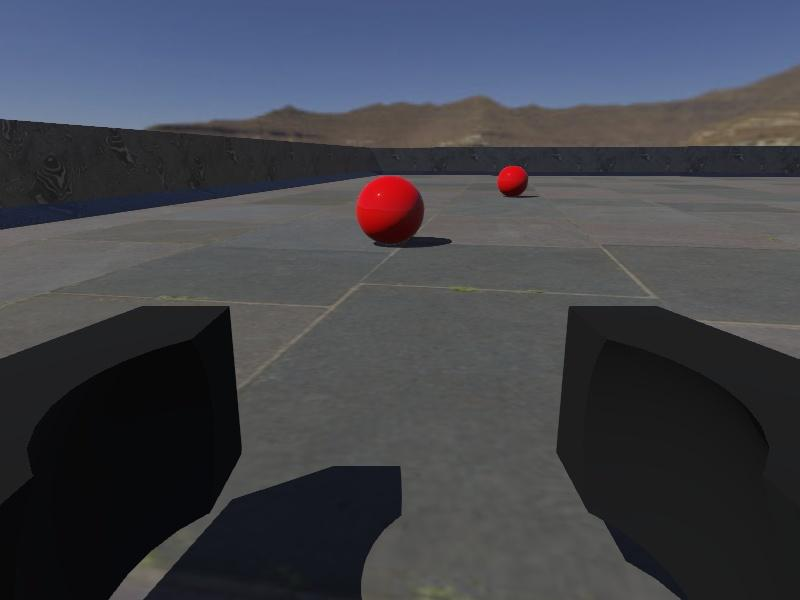red ball: (355, 174, 426, 247), (496, 164, 530, 198)
